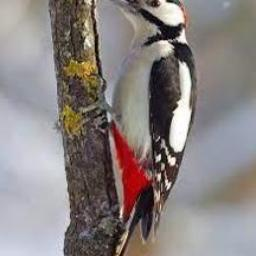Woodpecker: (87, 0, 198, 256)
